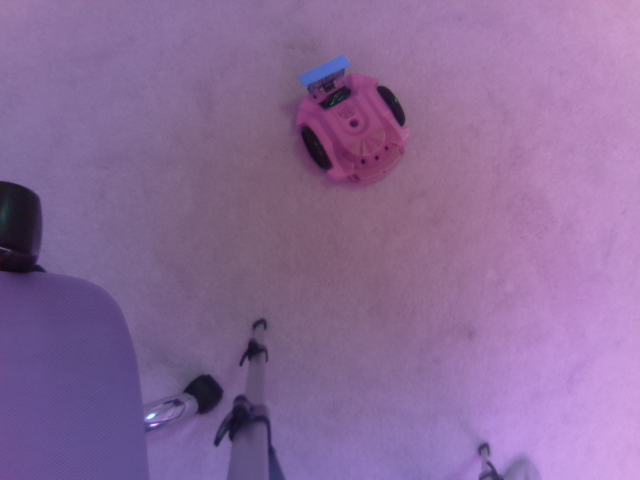board: (300, 50, 355, 103)
chassis: (293, 48, 413, 189)
